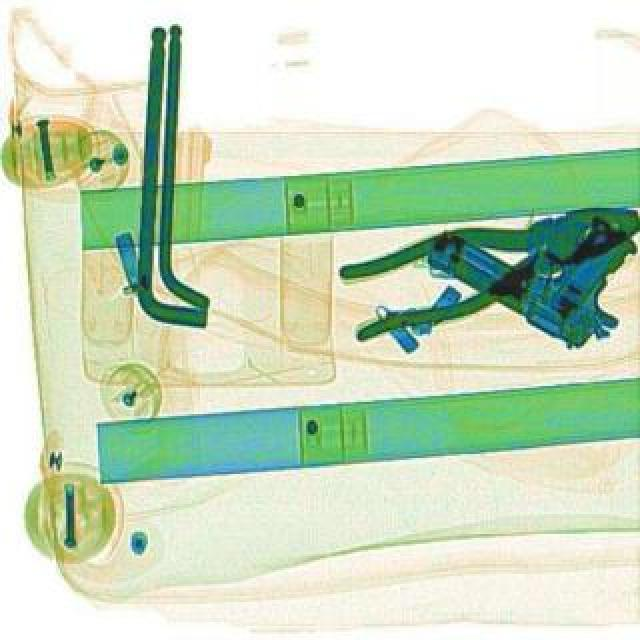gun: (422, 168, 638, 352)
wrench: (330, 190, 638, 350)
